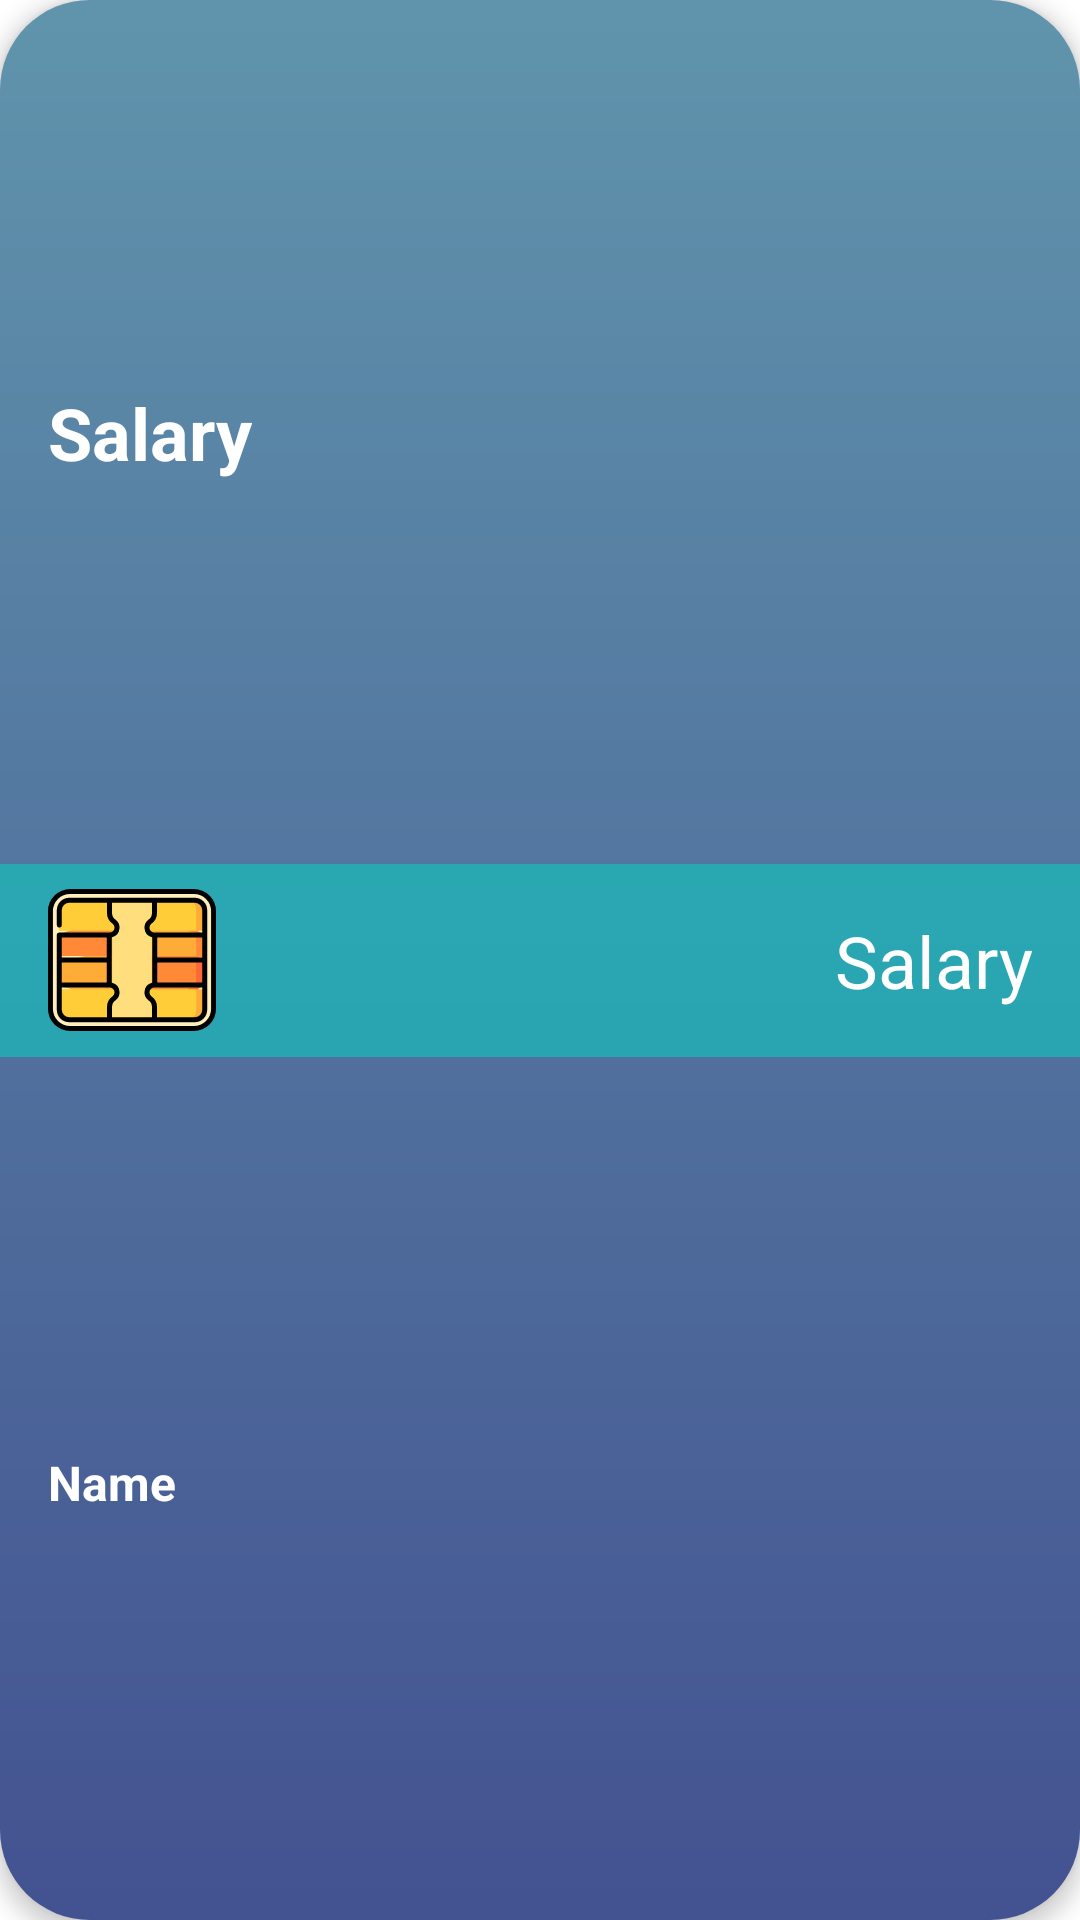

Point at icon controls on the screen. Image size 1080x1920, points as (x,y).
calcashflow credit chip: (132,960)
